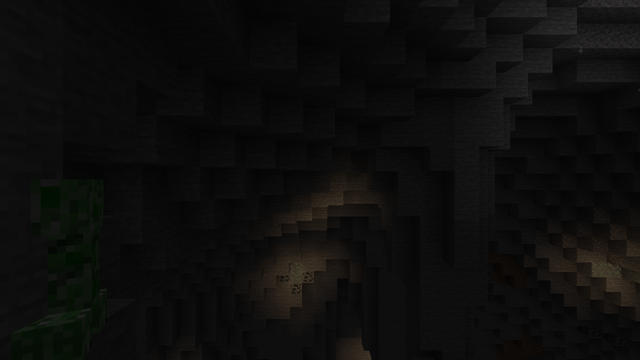creepers: (27, 170, 117, 356)
